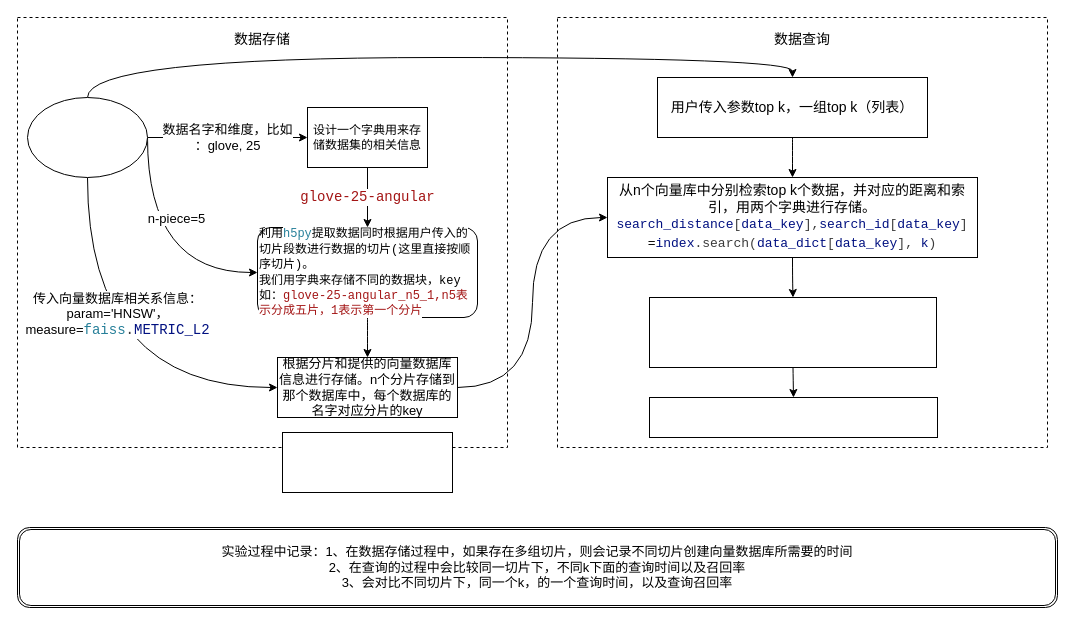
The diagram is 1075 pixels wide and 625 high, and some of its shapes have lost their labels. The shapes that lost their labels are listed below. From the top down, each one's centre as x and y in pixels, then its label:
the point at 87,137: user
the point at 792,332: 将距离和索引进行合并，同时保证在对距离进行排序的同时保证距离和其索引能够一一对应上。返回最接近的top k个距离及其对应的索引
the point at 793,417: 根据返回的信息与真实信息进行对比求召回率
the point at 367,462: 为了进行多组实验，这里的n也可以像k，传入一个列表进去。
